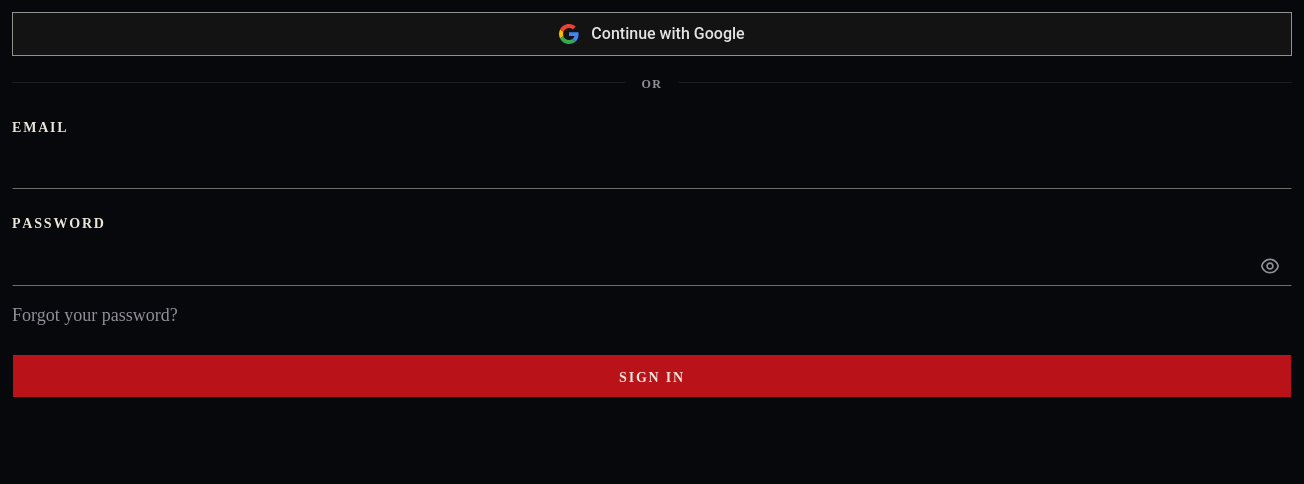
Test: SignInForm › says what went wrong in words, and keeps what was typed
Type "carrie@example.com" into the field labelled "Email" at (652, 169), box left=12, top=149, right=1292, bottom=189
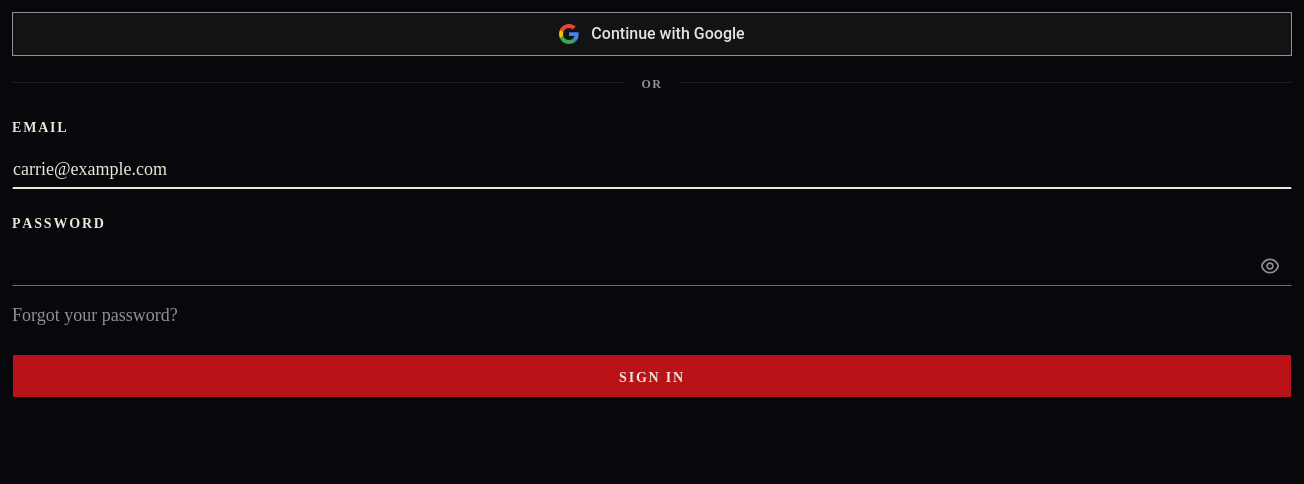
Type "wrong" into the password field labelled "Password" at (652, 266), box left=12, top=246, right=1292, bottom=286
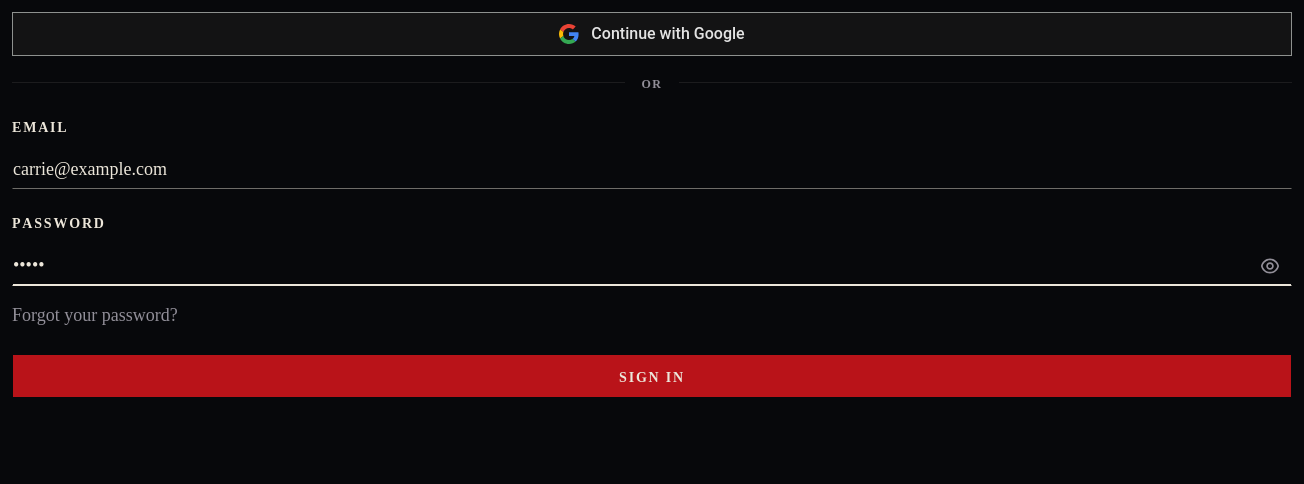
Click the button "Sign in" at (652, 376), box left=12, top=354, right=1292, bottom=398
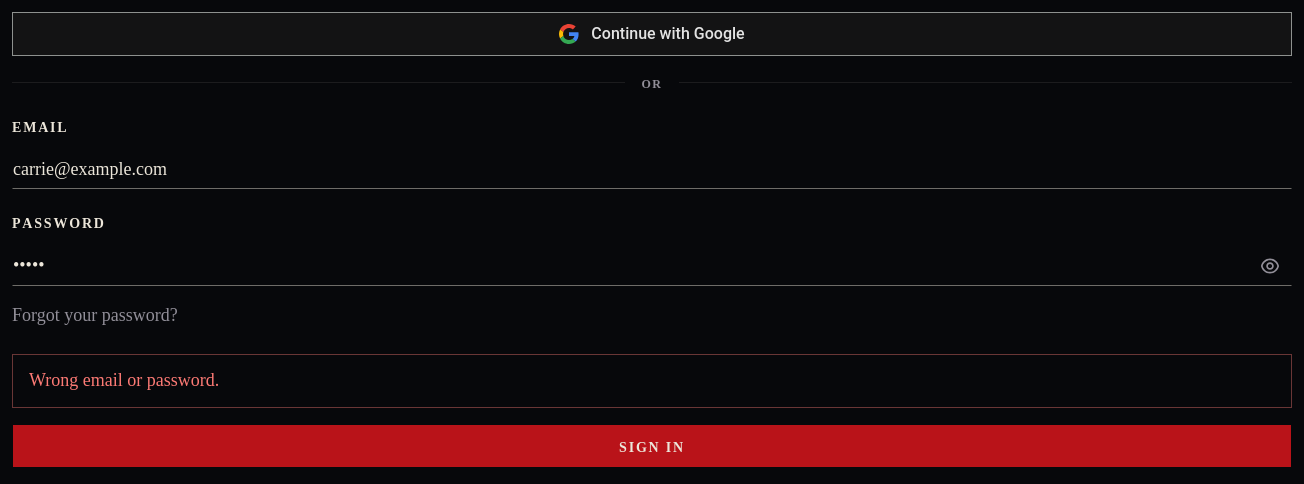
Now the message reads "Wrong email or password.", box left=29, top=370, right=219, bottom=390
